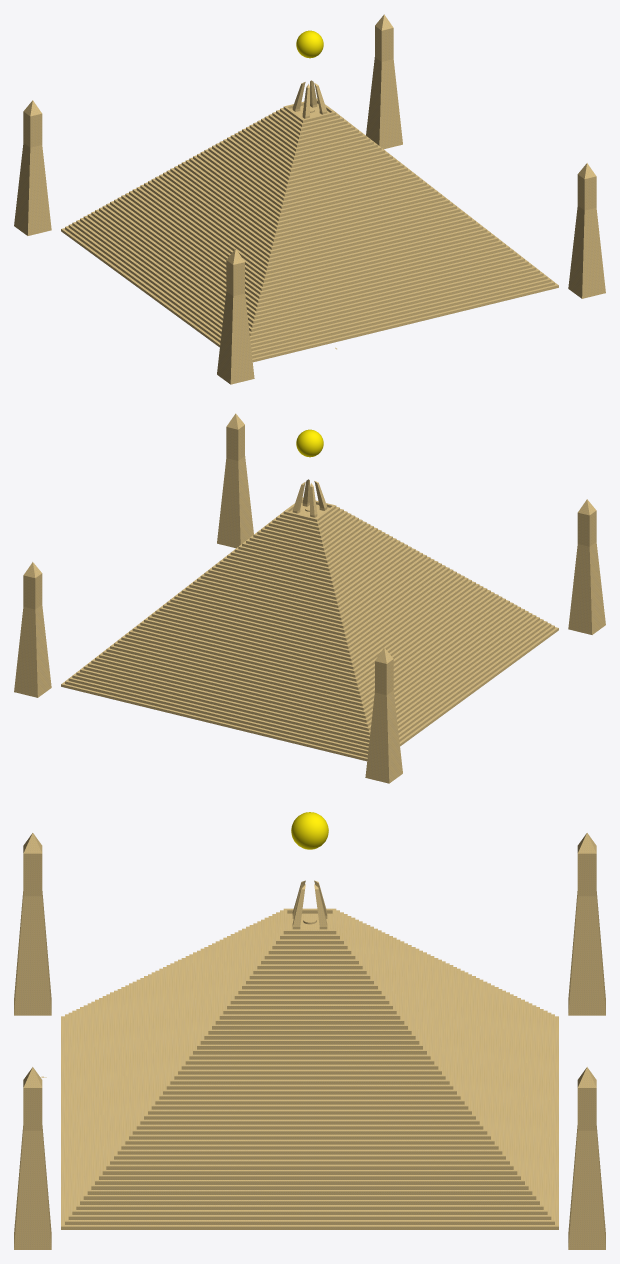
Rendered from TEMPLE_b.gltf.
3 renders of one model, top to bottom at view 1: azimuth 30°, elevation 25°; view 2: azimuth 150°, elevation 25°; view 3: azimuth 270°, elevation 25°, orthographic. The views are drawn at different scales.
Visible parts, largest first — view 1: ID1067, ID1099, ID1083, ID1115, ID953, ID945, ID937, ID929, ID921, ID913, ID905, ID897 (+50 smaller); view 2: ID1115, ID1083, ID1099, ID1067, ID953, ID945, ID937, ID929, ID921, ID913, ID905, ID897 (+50 smaller); view 3: ID937, ID929, ID905, ID953, ID897, ID945, ID801, ID921, ID913, ID785, ID865, ID849 (+57 smaller).
Boxes of the visible parts, bbox=[...] form: ID1067: bbox=[568, 206, 605, 298]; ID1099: bbox=[14, 143, 51, 235]; ID1083: bbox=[217, 291, 254, 384]; ID1115: bbox=[366, 57, 402, 149]; ID953: bbox=[61, 228, 558, 362]; ID945: bbox=[65, 226, 554, 358]; ID937: bbox=[68, 224, 551, 354]; ID929: bbox=[72, 222, 547, 350]; ID921: bbox=[76, 220, 543, 347]; ID913: bbox=[80, 217, 539, 343]; ID905: bbox=[83, 215, 536, 339]; ID897: bbox=[87, 213, 532, 335]; ID1115: bbox=[14, 605, 51, 697]; ID1083: bbox=[568, 542, 605, 634]; ID1099: bbox=[365, 690, 402, 783]; ID1067: bbox=[217, 456, 253, 548]; ID953: bbox=[61, 627, 558, 761]; ID945: bbox=[65, 625, 554, 757]; ID937: bbox=[68, 623, 551, 753]; ID929: bbox=[72, 621, 547, 749]; ID921: bbox=[76, 619, 543, 746]; ID913: bbox=[80, 616, 539, 742]; ID905: bbox=[83, 614, 536, 738]; ID897: bbox=[87, 612, 532, 734]; ID937: bbox=[68, 1012, 551, 1219]; ID929: bbox=[72, 1010, 547, 1214]; ID905: bbox=[83, 1005, 536, 1199]; ID953: bbox=[61, 1016, 558, 1229]; ID897: bbox=[87, 1003, 532, 1194]; ID945: bbox=[65, 1014, 554, 1224]; ID801: bbox=[117, 989, 502, 1154]; ID921: bbox=[76, 1009, 543, 1209]; ID913: bbox=[80, 1007, 539, 1204]; ID785: bbox=[121, 987, 498, 1149]; ID865: bbox=[102, 996, 517, 1174]; ID849: bbox=[106, 994, 513, 1169].
Size of the model in its own units: 157 by 91 by 157.
Materials: 152 (131 with a texture image).
